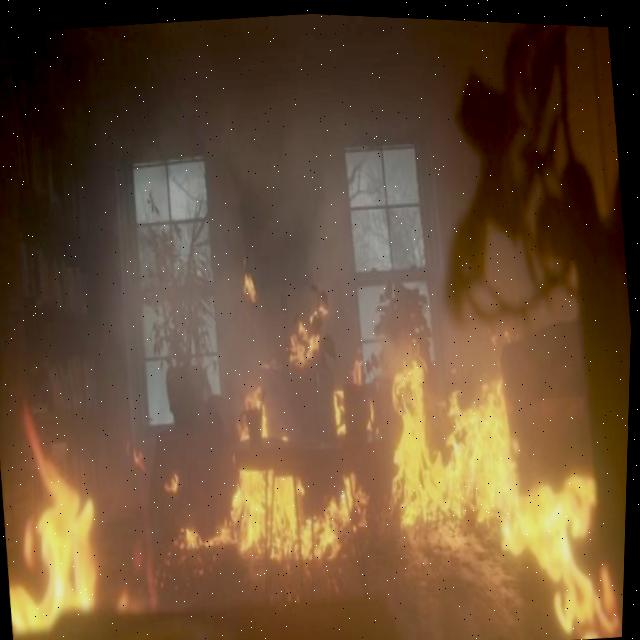fire: (395, 356, 521, 521), (13, 408, 99, 632), (505, 471, 623, 633), (234, 467, 300, 556), (316, 469, 371, 553), (291, 319, 322, 365)
smoke: (0, 11, 578, 545)
